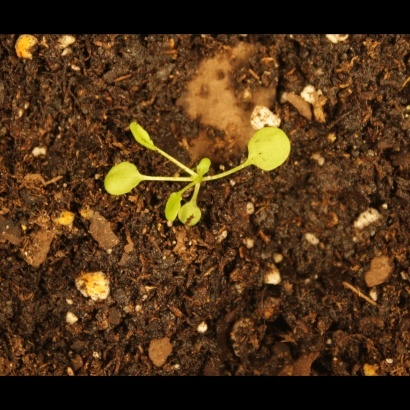leaf: (234, 122, 303, 178), (96, 159, 150, 198), (118, 119, 172, 155), (178, 199, 206, 229), (159, 191, 182, 226), (194, 151, 221, 180)
